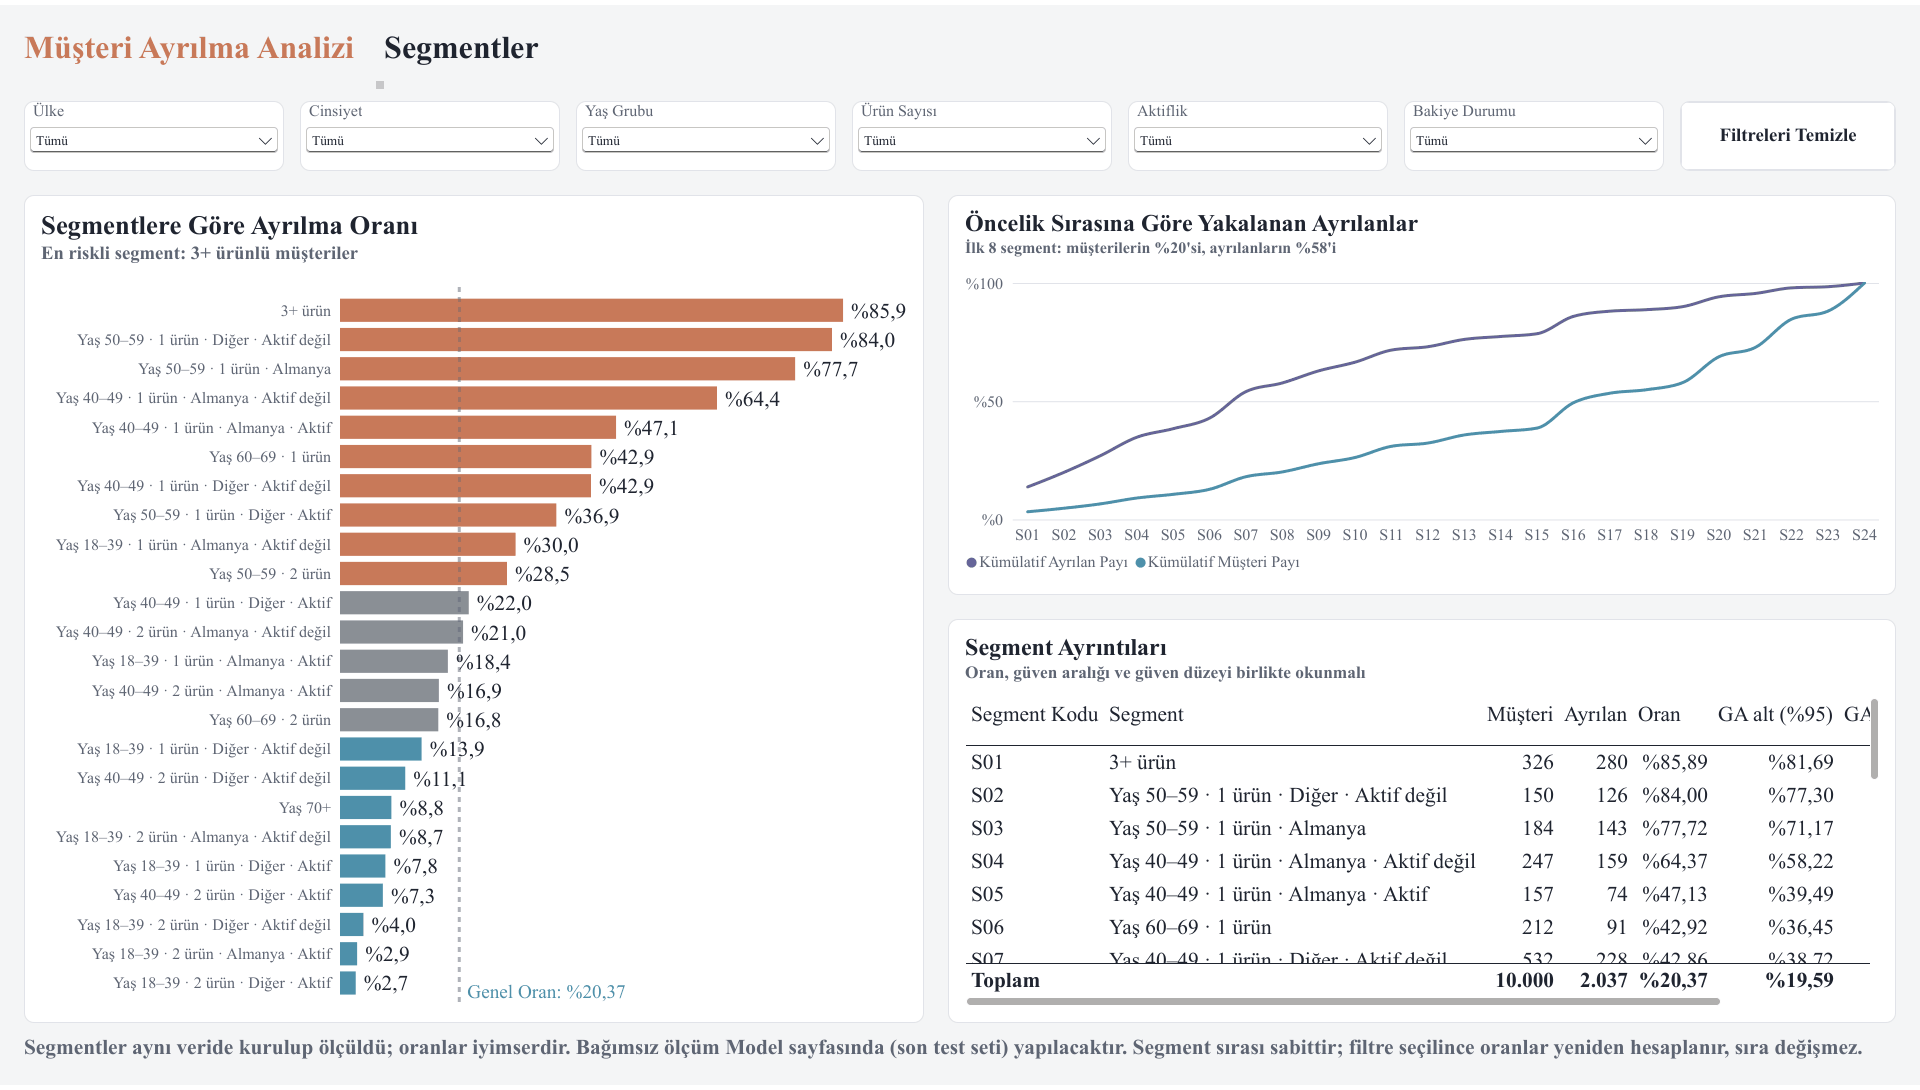

What the dashboard file says about the page in this screenshot:
{"tool":"powerbi","page":{"name":"Segmentler","canvas":[1920,1080],"ordinal":1},"visuals":[{"type":"slicer","fields":{"Values":["Müşteriler.Ülke"]},"box":[24,96,260,70],"z":0},{"type":"slicer","fields":{"Values":["Müşteriler.Cinsiyet"]},"box":[300,96,260,70],"z":1000},{"type":"slicer","fields":{"Values":["Müşteriler.Yaş Grubu"]},"box":[576,96,260,70],"z":2000},{"type":"slicer","fields":{"Values":["Müşteriler.Ürün Sayısı"]},"box":[852,96,260,70],"z":3000},{"type":"slicer","fields":{"Values":["Müşteriler.Aktiflik"]},"box":[1128,96,260,70],"z":4000},{"type":"slicer","fields":{"Values":["Müşteriler.Bakiye Durumu"]},"box":[1404,96,260,70],"z":5000},{"type":"textbox","title":"Müşteri Ayrılma Analizi","box":[24,24,360,60],"z":6000},{"type":"textbox","title":"Segmentler","box":[384,24,400,60],"z":7000},{"type":"actionButton","box":[1680,96,216,70],"z":8000},{"type":"textbox","box":[24,1030,1872,36],"z":9000},{"type":"clusteredBarChart","title":"Segmentlere Göre Ayrılma Oranı","fields":{"Category":["Müşteriler.Segment"],"Y":["Müşteriler.Ayrılma Oranı"]},"box":[24,190,900,828],"z":10000},{"type":"lineChart","title":"Öncelik Sırasına Göre Yakalanan Ayrılanlar","fields":{"Category":["Müşteriler.Segment Kodu"],"Y":["Müşteriler.Kümülatif Ayrılan Payı","Müşteriler.Kümülatif Müşteri Payı"]},"box":[948,190,948,400],"z":11000},{"type":"tableEx","title":"Segment Ayrıntıları","fields":{"Values":["Müşteriler.Segment Kodu","Müşteriler.Segment","Müşteriler.Müşteri Sayısı","Müşteriler.Ayrılan Sayısı","Müşteriler.Ayrılma Oranı","Müşteriler.Wilson Alt","Müşteriler.Wilson Üst","Müşteriler.Güven"]},"box":[948,614,948,404],"z":12000}]}

Visuals, with their boxes in screenshot pixels (x1, y1, x2, y2), scaled from the page's 1920x1080 canvas onto the 1920x1090 screenshot:
slicer - Müşteriler.Ülke: left=24, top=97, right=284, bottom=168
slicer - Müşteriler.Cinsiyet: left=300, top=97, right=560, bottom=168
slicer - Müşteriler.Yaş Grubu: left=576, top=97, right=836, bottom=168
slicer - Müşteriler.Ürün Sayısı: left=852, top=97, right=1112, bottom=168
slicer - Müşteriler.Aktiflik: left=1128, top=97, right=1388, bottom=168
slicer - Müşteriler.Bakiye Durumu: left=1404, top=97, right=1664, bottom=168
"Müşteri Ayrılma Analizi" textbox: left=24, top=24, right=384, bottom=85
"Segmentler" textbox: left=384, top=24, right=784, bottom=85
actionButton: left=1680, top=97, right=1896, bottom=168
textbox: left=24, top=1040, right=1896, bottom=1076
"Segmentlere Göre Ayrılma Oranı" clusteredBarChart: left=24, top=192, right=924, bottom=1027
"Öncelik Sırasına Göre Yakalanan Ayrılanlar" lineChart: left=948, top=192, right=1896, bottom=595
"Segment Ayrıntıları" tableEx: left=948, top=620, right=1896, bottom=1027
